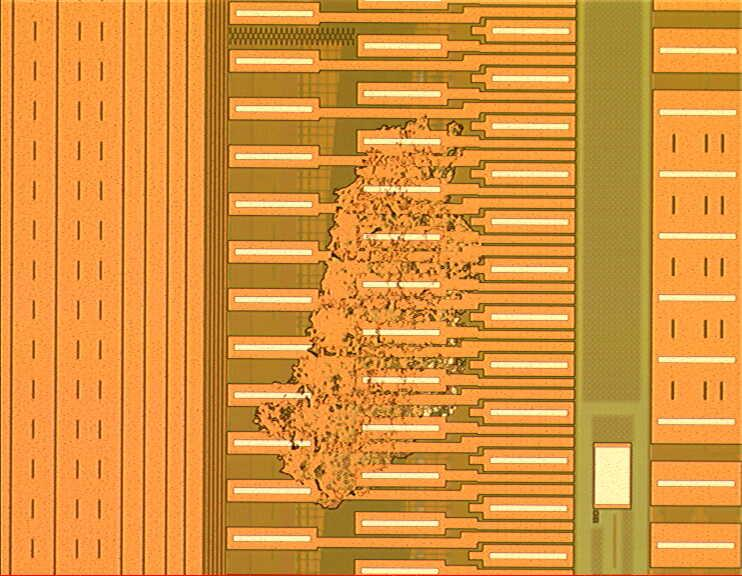BLOCK ETCH: (249, 114, 484, 512)
